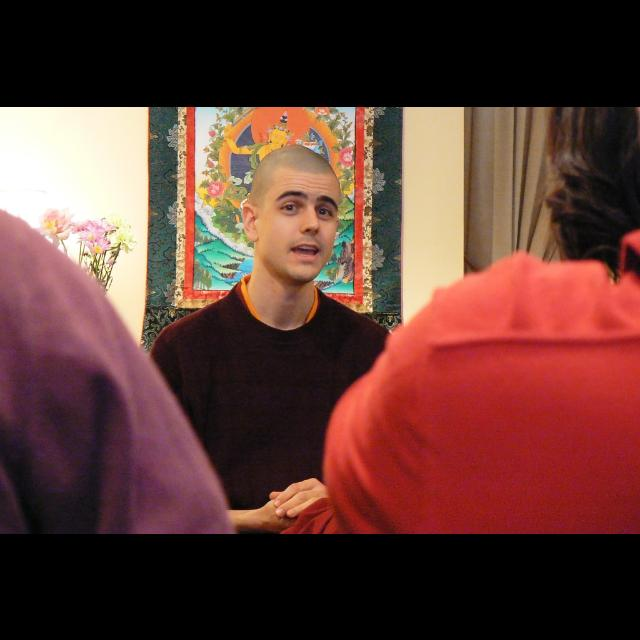Flower: (32, 205, 82, 248), (76, 216, 104, 248), (113, 231, 133, 253), (112, 213, 128, 225)
